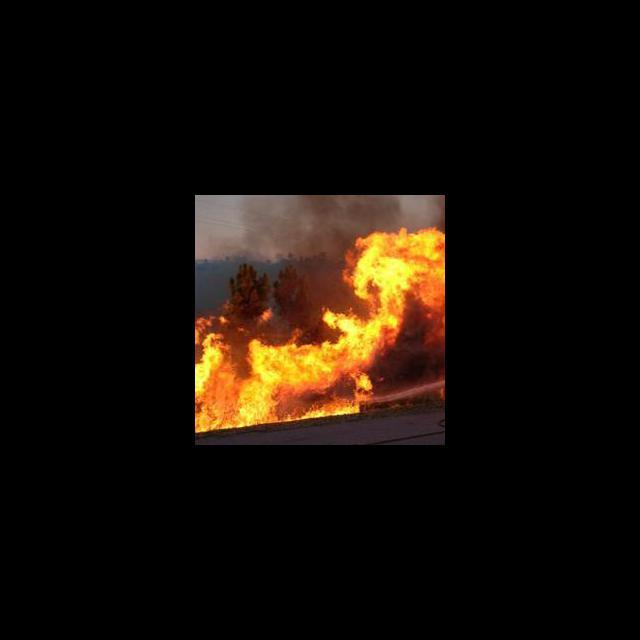Fire: (196, 226, 445, 431)
